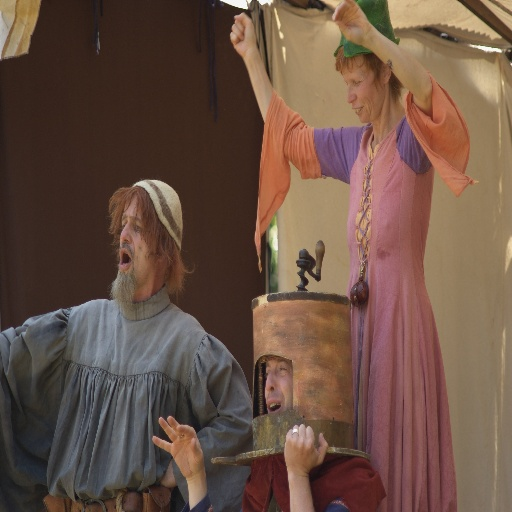hand: (150, 414, 211, 508), (283, 421, 328, 474), (331, 0, 374, 46), (228, 11, 258, 59)
